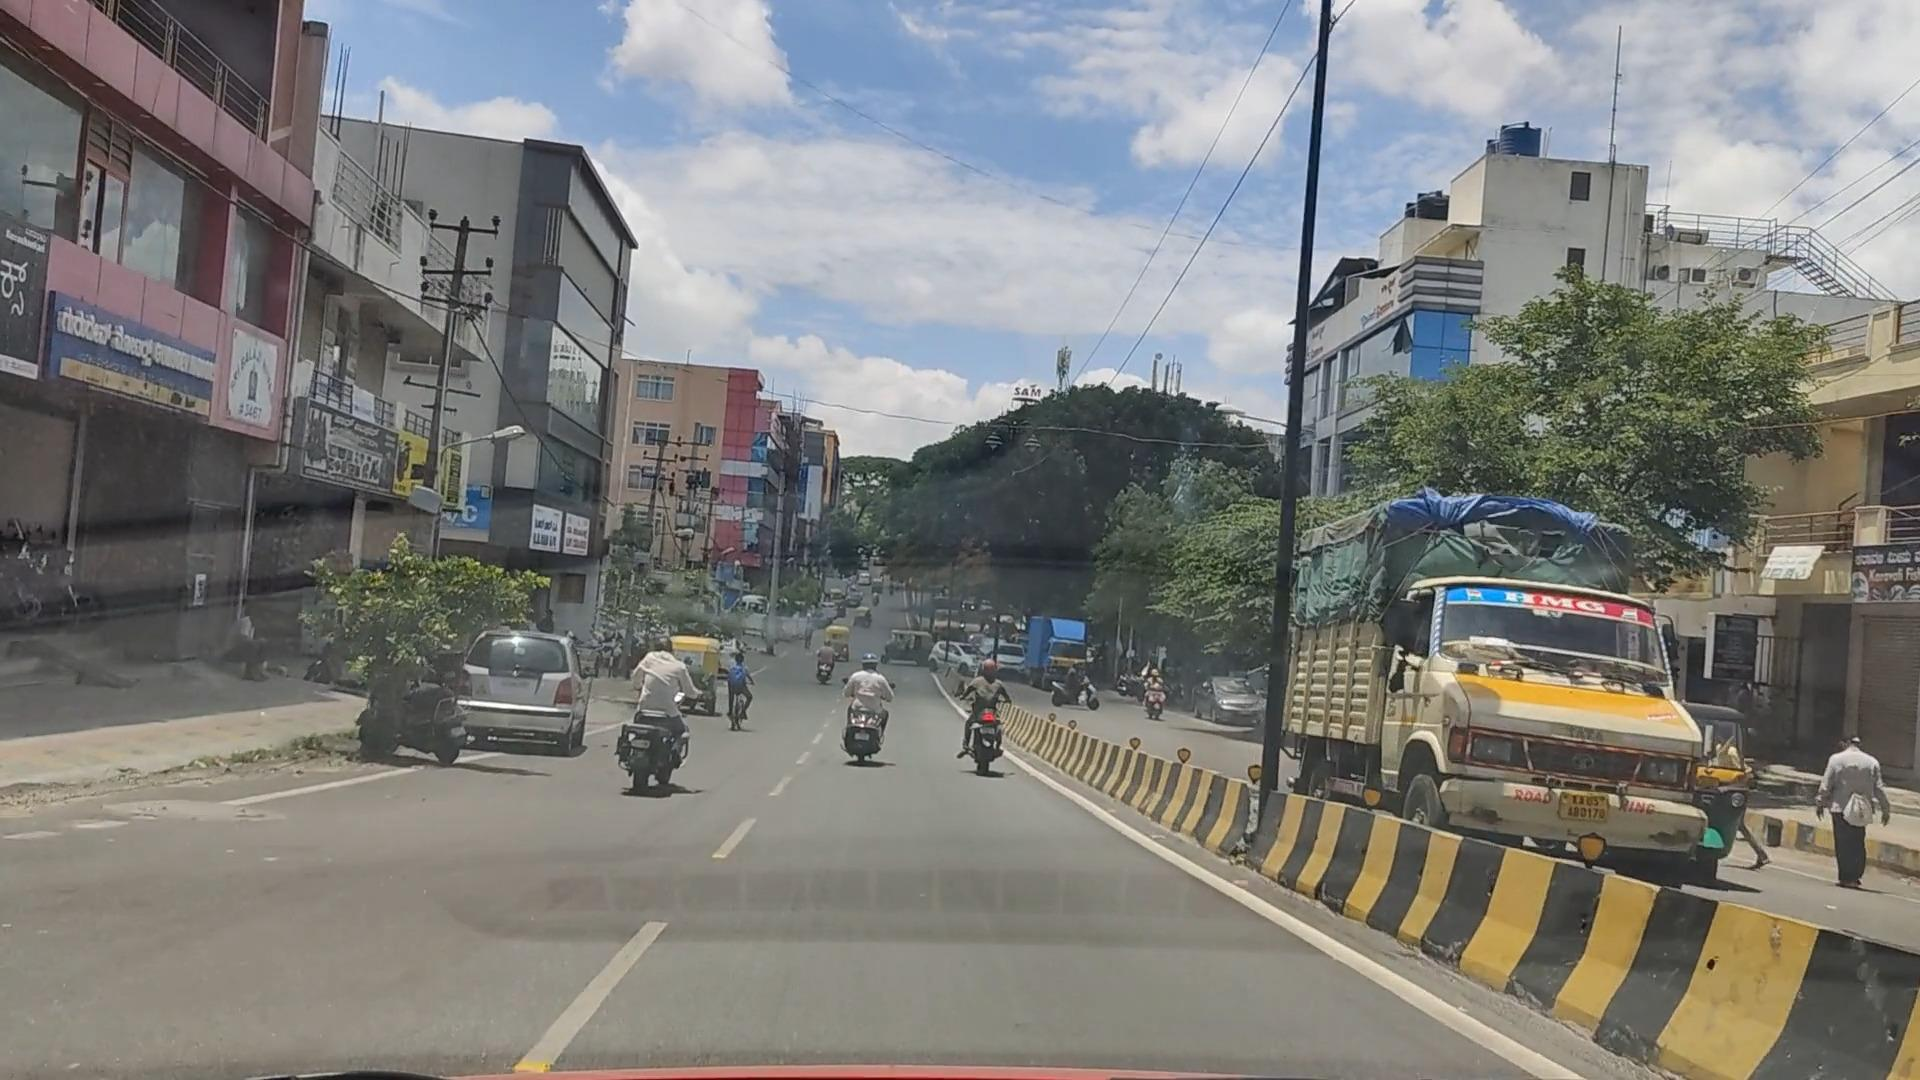LMV: (335, 618, 489, 778), (806, 608, 915, 781), (603, 636, 703, 816), (450, 638, 596, 758), (956, 650, 1025, 789)
